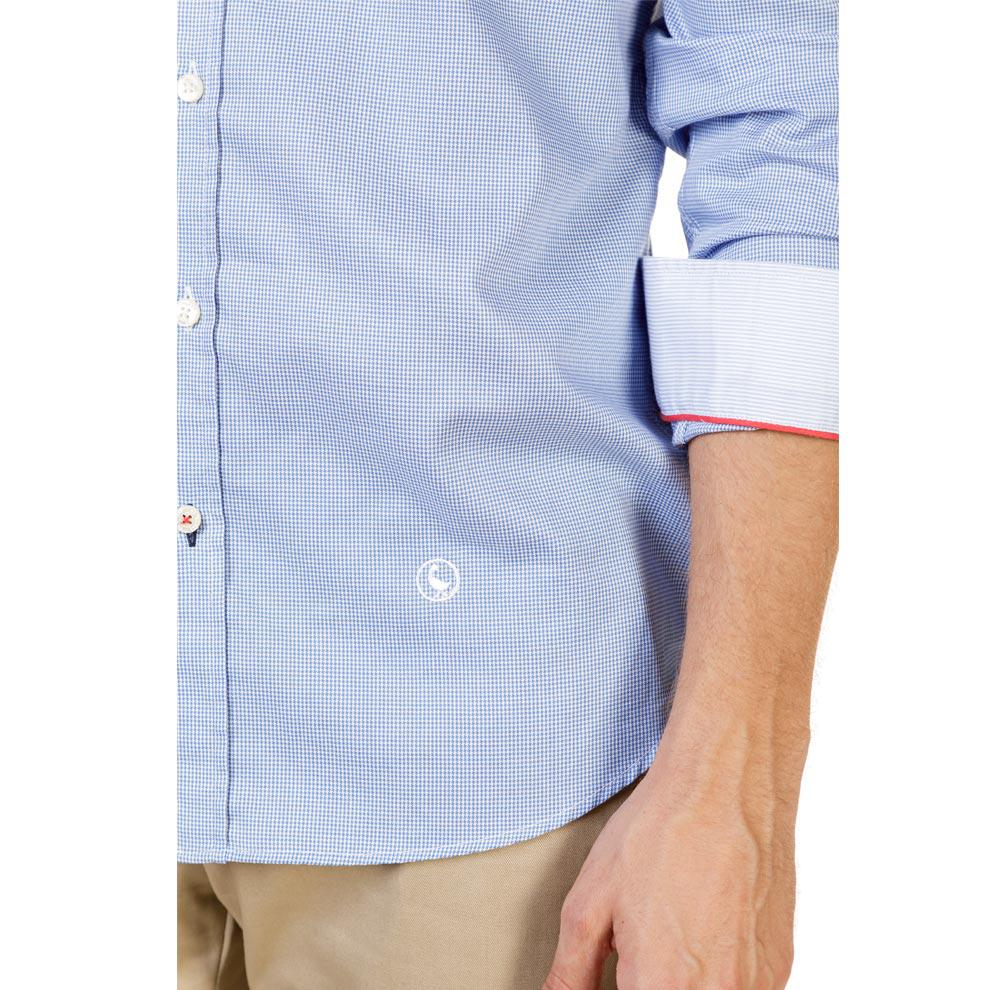teeshirt: (150, 1, 849, 911)
